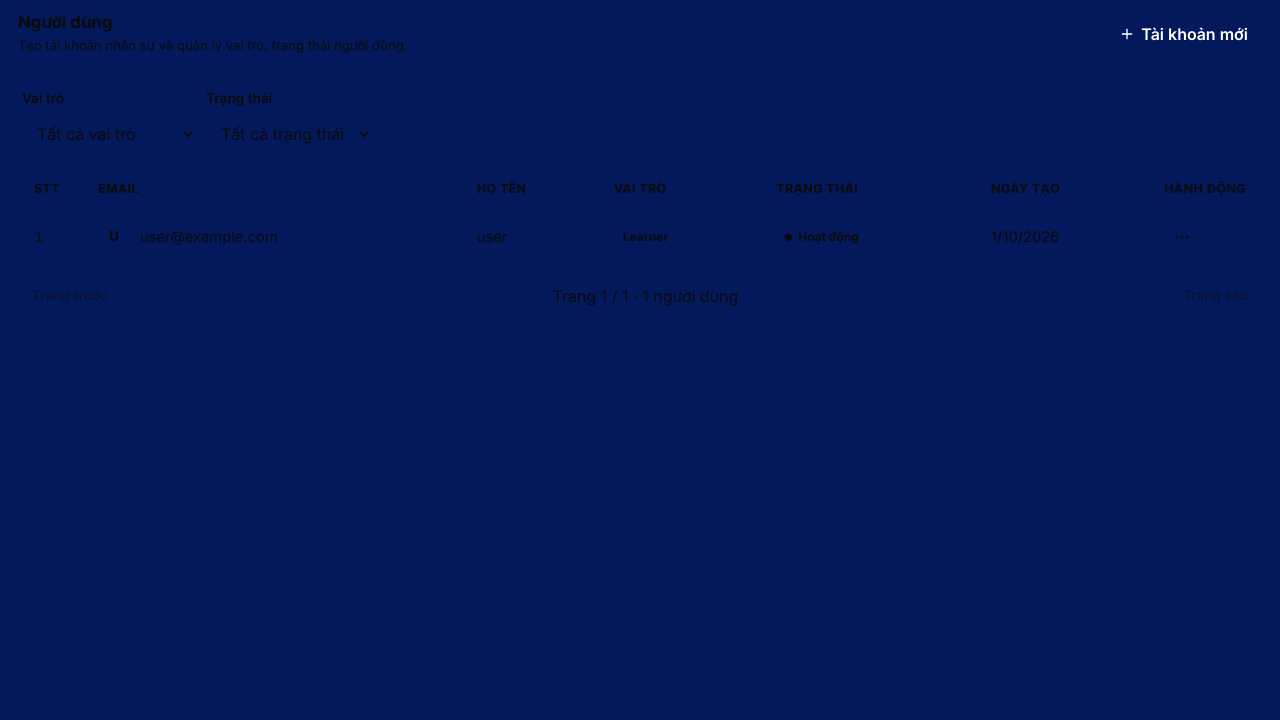
Test: user row menu › shows the password actions as usable items that change nothing yet
Click the button named "Hành động của user@example.com": [1182, 237] box [1164,219,1200,255]
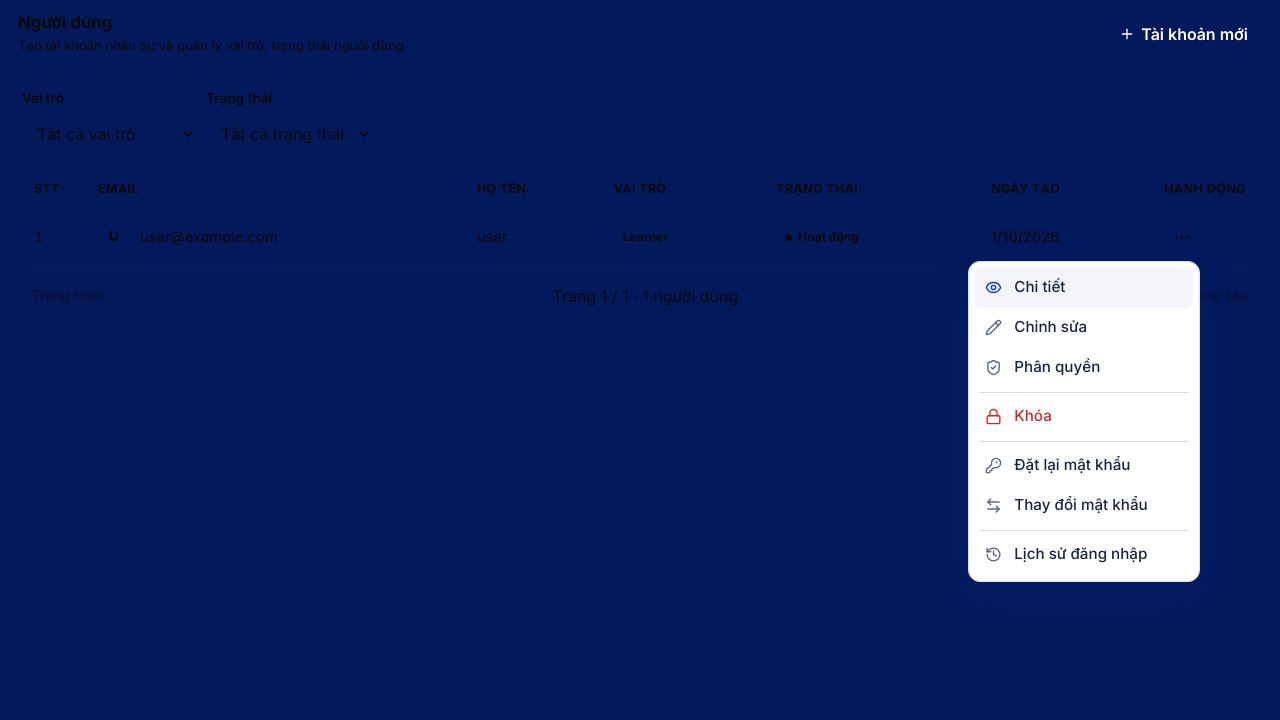
Click the menu item "Đặt lại mật khẩu": [1084, 466] box [975,446,1193,486]
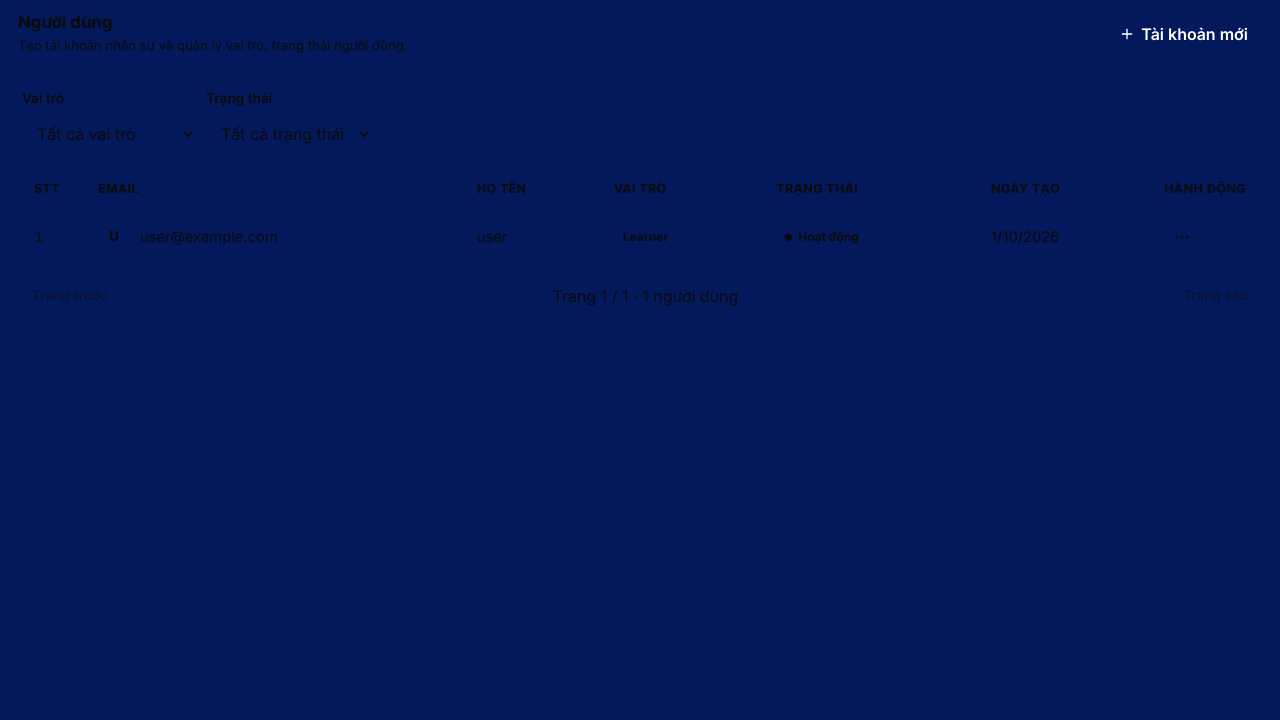
Now the menu is gone
Click the button named "Hành động của user@example.com": [1182, 237] box [1164,219,1200,255]
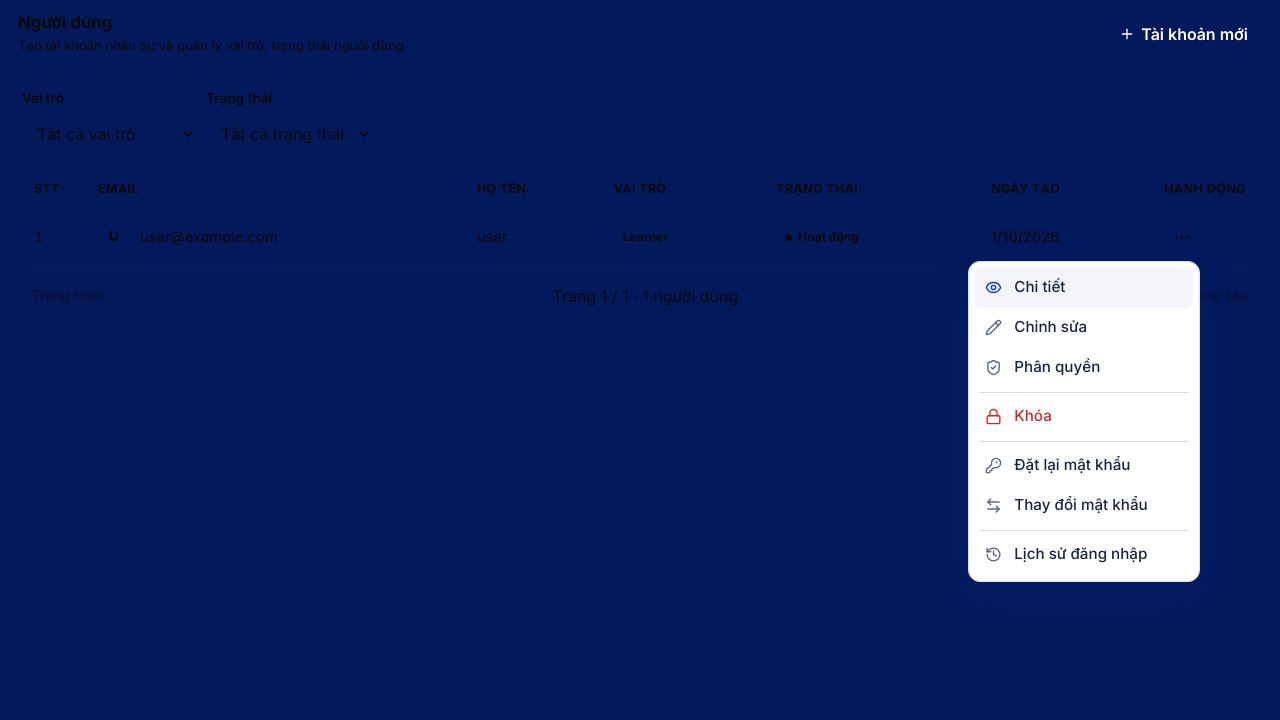
Click the menu item "Thay đổi mật khẩu": [1084, 506] box [975,486,1193,526]
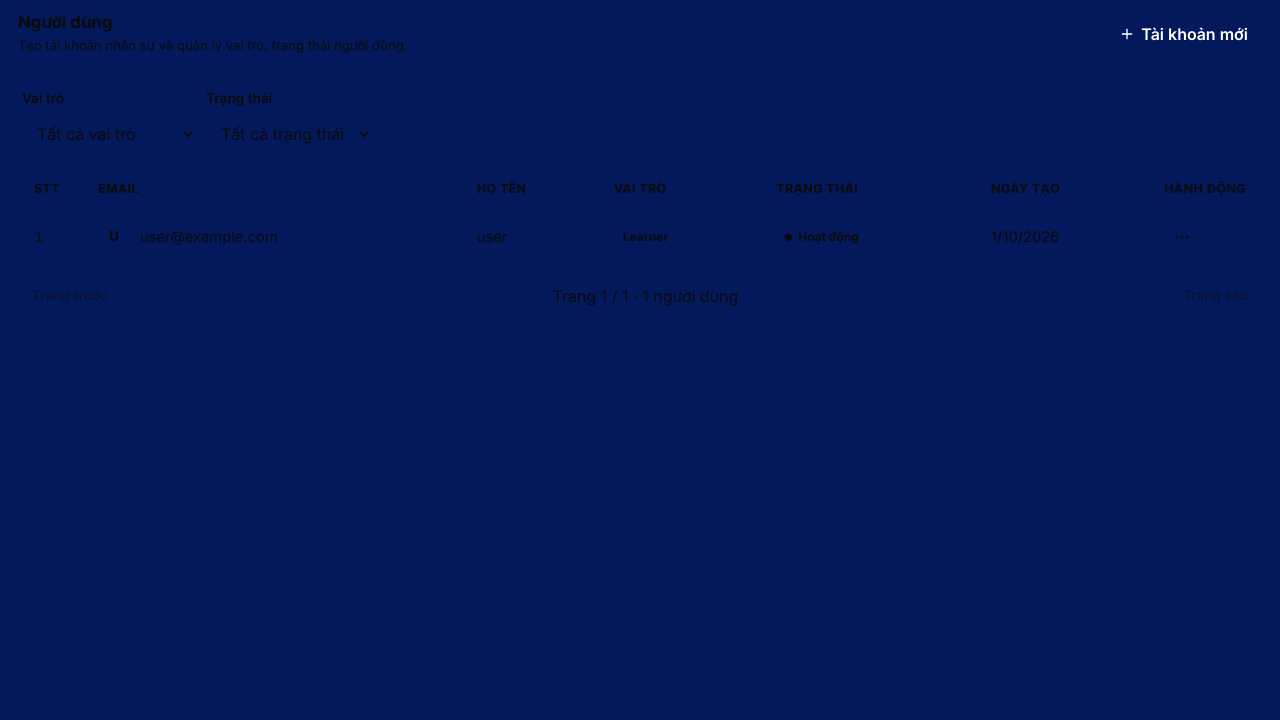
Now the menu is gone
